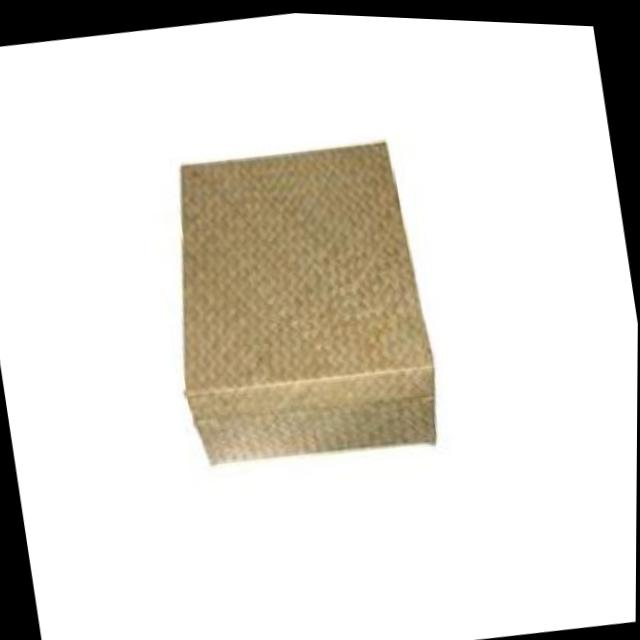box: (144, 105, 463, 509)
